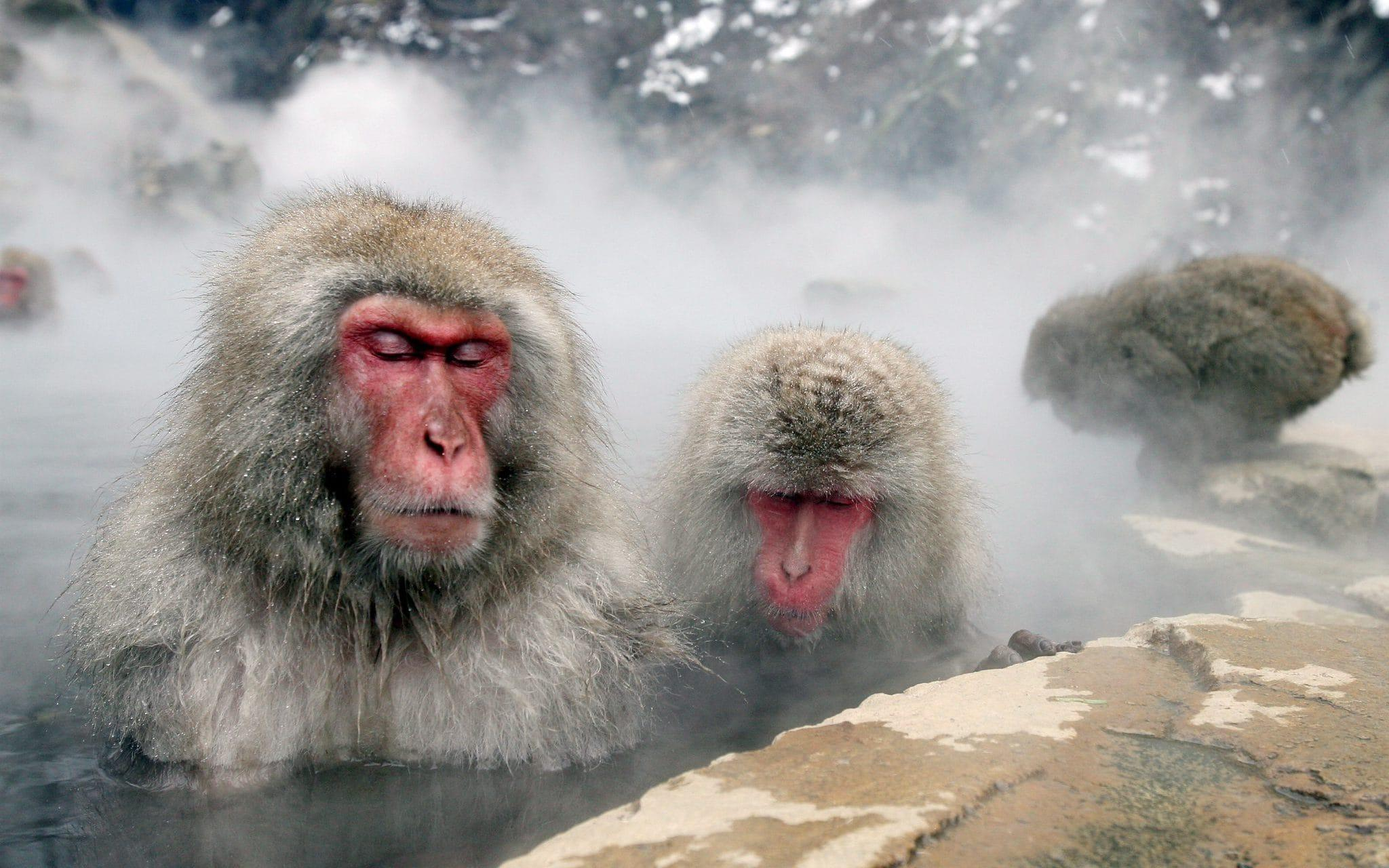monkey: (635, 324, 1018, 767)
